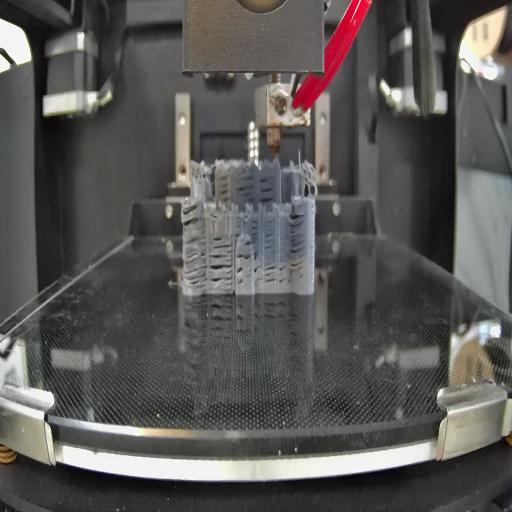cracks: (182, 238, 206, 289), (288, 211, 305, 271), (209, 254, 233, 291), (264, 257, 288, 287), (182, 202, 202, 228), (259, 174, 276, 204), (237, 174, 255, 202), (217, 176, 233, 200), (264, 219, 275, 251), (253, 248, 262, 287), (212, 235, 234, 250), (234, 216, 243, 238), (235, 266, 244, 286), (236, 252, 253, 260), (251, 219, 259, 235), (242, 238, 254, 247)
